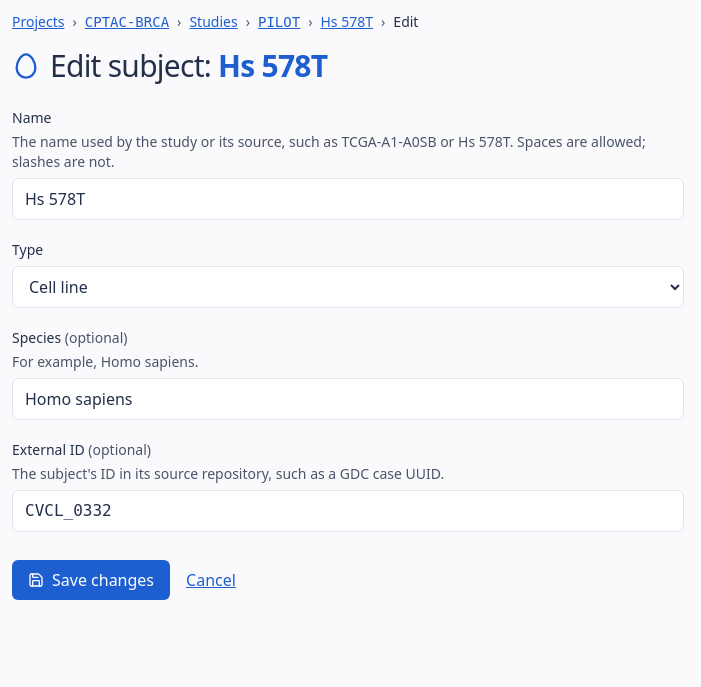
it: EditSubjectPage › says when the details are not valid
This screenshot has width=701, height=687.
Click the button "Save changes": x=91, y=580 [12,560,170,600]
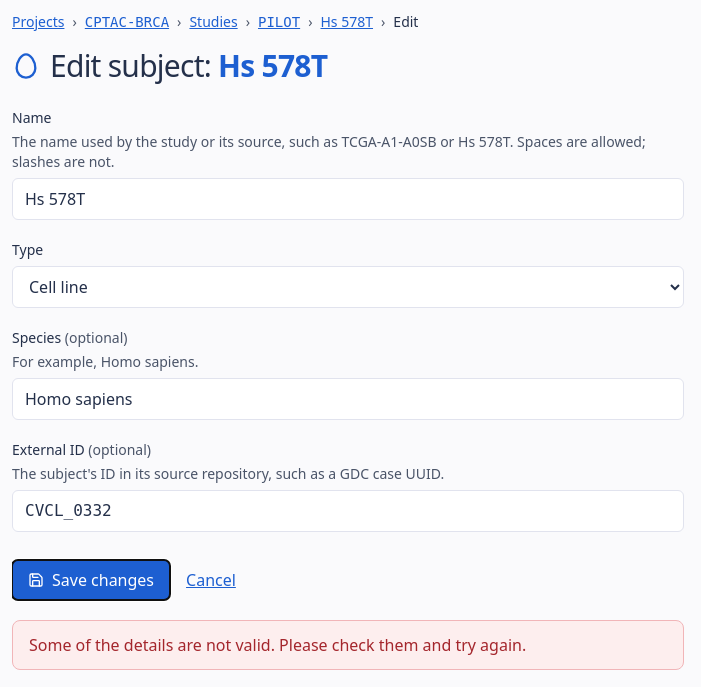
Check: the message shows "Some of the details are not valid.", box [29,634,526,656]
